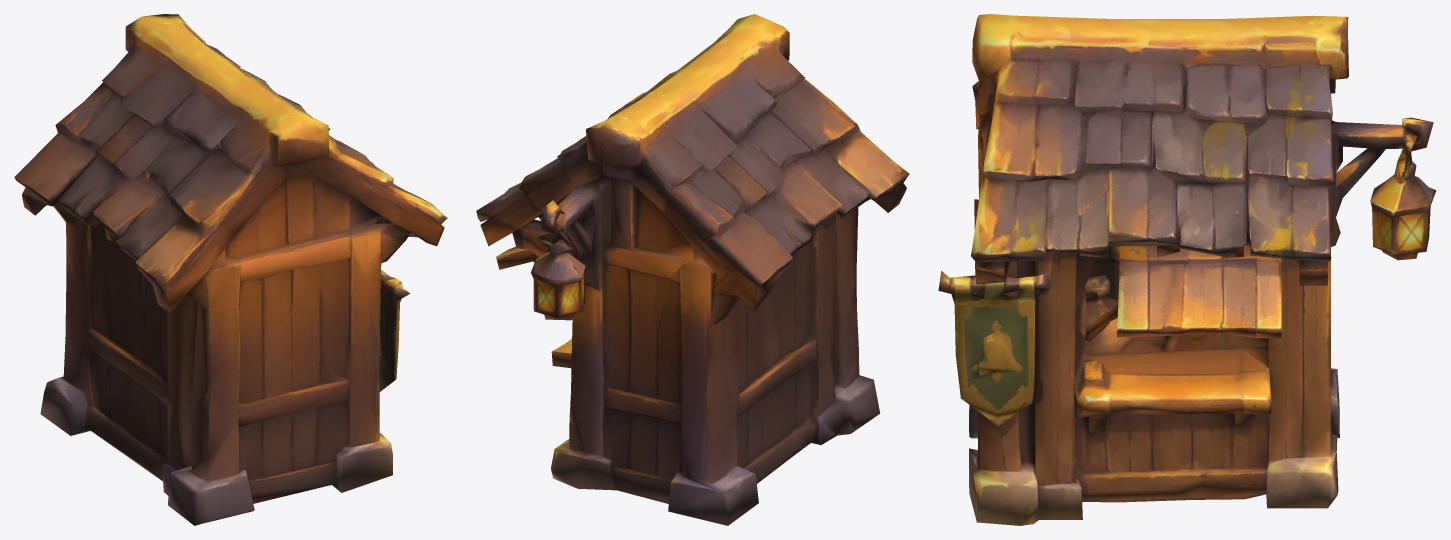
Rendered from model-prop-quay-toll-shed-01.glb.
3 renders of one model, left to right at view 1: azimuth 30°, elevation 25°; view 2: azimuth 150°, elevation 25°; view 3: azimuth 270°, elevation 25°, orthographic. The views are drawn at different scales.
Parts seen in each view (by area): view 1: tripo_node_5b251003-abfe-4155-be78-d1679c4cd032; view 2: tripo_node_5b251003-abfe-4155-be78-d1679c4cd032; view 3: tripo_node_5b251003-abfe-4155-be78-d1679c4cd032.
Boxes of the visible parts, x1=… form: tripo_node_5b251003-abfe-4155-be78-d1679c4cd032: x1=14, y1=14, x2=447, y2=525; tripo_node_5b251003-abfe-4155-be78-d1679c4cd032: x1=476, y1=14, x2=909, y2=525; tripo_node_5b251003-abfe-4155-be78-d1679c4cd032: x1=938, y1=14, x2=1436, y2=525.
Bounding box in the file's own units: 1.44 × 1.8 × 1.79.
1 material, 1 textured.
